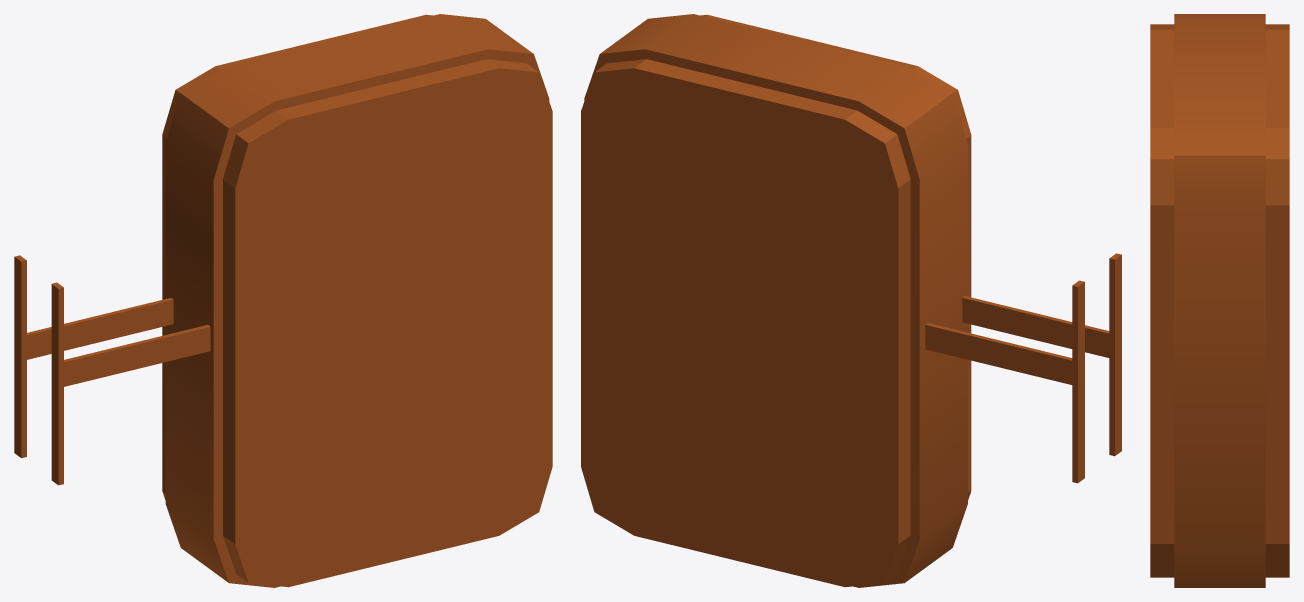
The model's file is SM_sign_japan_small_03.fbx.
3 views of the same model, side by side, from view 1: azimuth 30°, elevation 25°; view 2: azimuth 150°, elevation 25°; view 3: azimuth 270°, elevation 25° (orthographic). The views are drawn at different scales.
Parts seen in each view (by area): view 1: Object011; view 2: Object011; view 3: Object011.
Boxes of the visible parts, x1=… form: Object011: x1=14, y1=14, x2=552, y2=587; Object011: x1=581, y1=14, x2=1121, y2=587; Object011: x1=1150, y1=14, x2=1289, y2=587.
Size of the model in its own units: 39.75 by 10.28 by 37.72.
